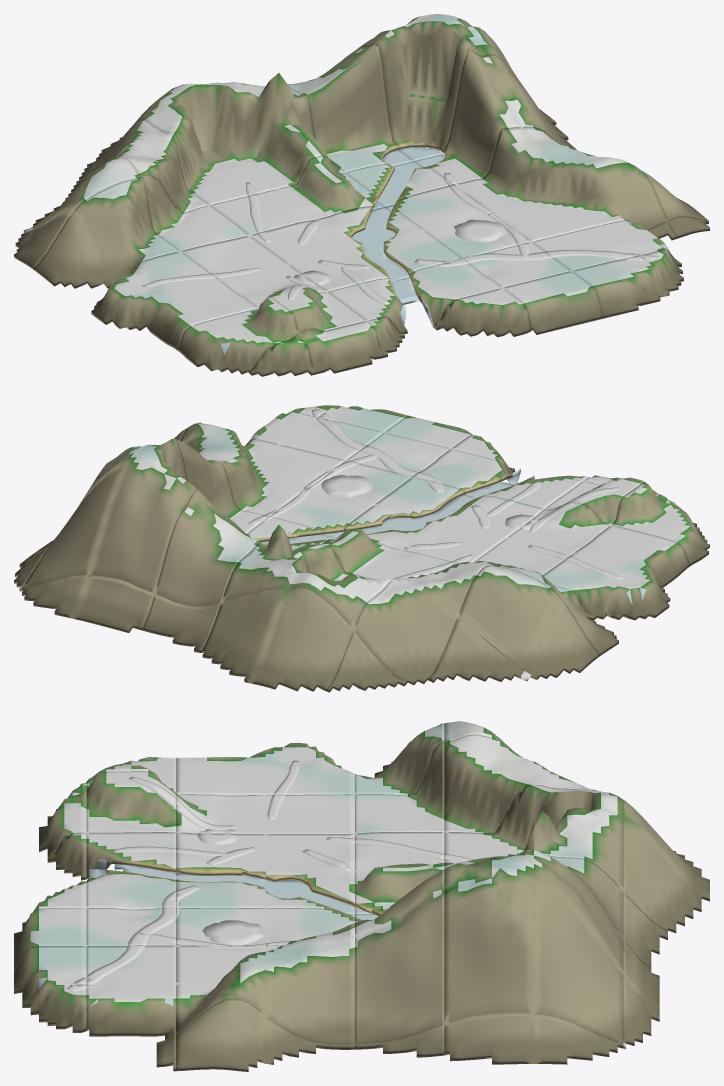
The model's file is world-v7-collision.fbx.
3 views of the same model, one above another, from view 1: azimuth 30°, elevation 25°; view 2: azimuth 150°, elevation 25°; view 3: azimuth 270°, elevation 25° (orthographic). The views are drawn at different scales.
Parts seen in each view (by area): view 1: W7C_Ground_51, W7C_Ground_43, W7C_Ground_11, W7C_Ground_50, W7C_Ground_56, W7C_Ground_49, W7C_Ground_35, W7C_Ground_28, W7C_Ground_08, W7C_Ground_36, W7C_Ground_38, W7C_Ground_18 (+41 smaller); view 2: W7C_Ground_52, W7C_Ground_29, W7C_Ground_20, W7C_Ground_44, W7C_Ground_12, W7C_Ground_37, W7C_Ground_60, W7C_Ground_53, W7C_Ground_13, W7C_Ground_36, W7C_Ground_05, W7C_Ground_10 (+41 smaller); view 3: W7C_Ground_59, W7C_Ground_58, W7C_Ground_60, W7C_Ground_57, W7C_Ground_19, W7C_Ground_63, W7C_Ground_37, W7C_Ground_15, W7C_Ground_55, W7C_Ground_36, W7C_Ground_18, W7C_Ground_66 (+43 smaller).
Part boxes in pixels (<box>): W7C_Ground_51: <box>374,14,480,161</box>; W7C_Ground_43: <box>306,45,412,172</box>; W7C_Ground_11: <box>73,176,179,288</box>; W7C_Ground_50: <box>413,48,520,184</box>; W7C_Ground_56: <box>560,157,667,229</box>; W7C_Ground_49: <box>453,126,559,212</box>; W7C_Ground_35: <box>238,86,344,188</box>; W7C_Ground_28: <box>133,83,237,169</box>; W7C_Ground_08: <box>191,296,297,374</box>; W7C_Ground_36: <box>206,73,305,160</box>; W7C_Ground_38: <box>503,271,602,334</box>; W7C_Ground_18: <box>141,174,248,250</box>; W7C_Ground_52: <box>89,462,192,593</box>; W7C_Ground_29: <box>250,587,353,691</box>; W7C_Ground_20: <box>354,579,457,684</box>; W7C_Ground_44: <box>155,492,258,606</box>; W7C_Ground_12: <box>458,564,562,670</box>; W7C_Ground_37: <box>202,588,286,683</box>; W7C_Ground_60: <box>23,463,126,586</box>; W7C_Ground_53: <box>73,575,154,632</box>; W7C_Ground_13: <box>429,616,523,682</box>; W7C_Ground_36: <box>221,525,309,601</box>; W7C_Ground_05: <box>524,599,599,679</box>; W7C_Ground_10: <box>542,553,638,619</box>; W7C_Ground_59: <box>444,868,533,1022</box>; W7C_Ground_58: <box>355,889,444,1043</box>; W7C_Ground_60: <box>534,875,623,1042</box>; W7C_Ground_57: <box>265,936,354,1043</box>; W7C_Ground_19: <box>444,734,533,833</box>; W7C_Ground_63: <box>176,999,265,1071</box>; W7C_Ground_37: <box>623,818,709,932</box>; W7C_Ground_15: <box>86,771,175,832</box>; W7C_Ground_55: <box>86,983,175,1044</box>; W7C_Ground_36: <box>534,807,623,890</box>; W7C_Ground_18: <box>355,742,444,833</box>; W7C_Ground_66: <box>444,1012,533,1064</box>.
Bounding box in the file's own units: 26100 × 5715 × 24900.
